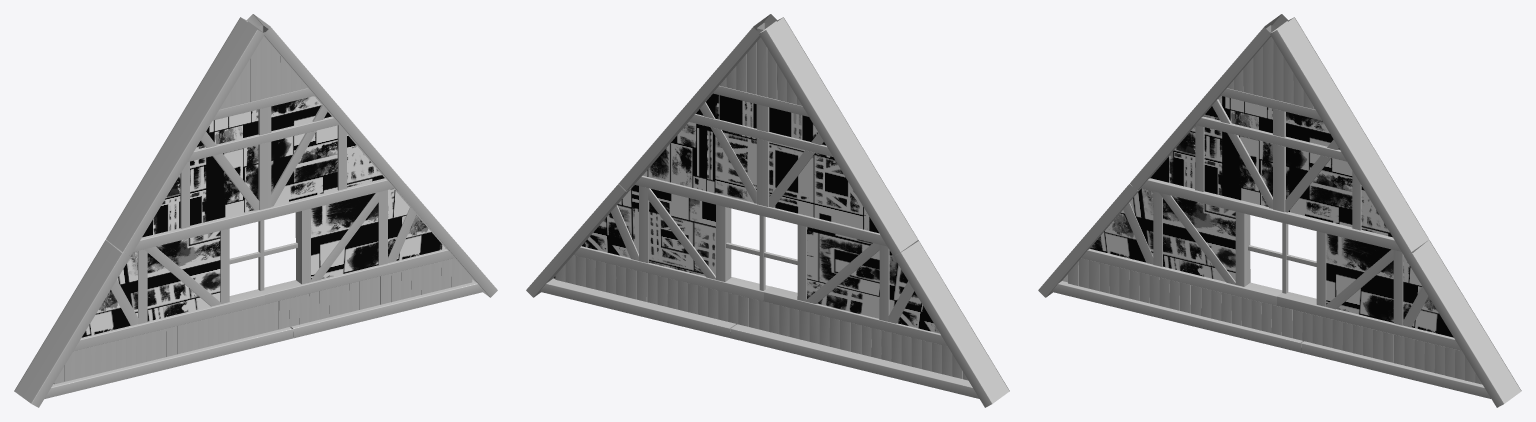
The model's file is SM_roof02.fbx.
3 renders of one model, left to right at view 1: azimuth 30°, elevation 25°; view 2: azimuth 150°, elevation 25°; view 3: azimuth 330°, elevation 25°, orthographic.
Parts seen in each view (by area): view 1: SM_roof02_LOD0; view 2: SM_roof02_LOD0; view 3: SM_roof02_LOD0.
Part boxes in pixels (left/top/right/bottom): SM_roof02_LOD0: left=14, top=14, right=497, bottom=407; SM_roof02_LOD0: left=526, top=14, right=1009, bottom=407; SM_roof02_LOD0: left=1038, top=14, right=1521, bottom=407.
Bounding box in the file's own units: 846 × 56 × 562.
